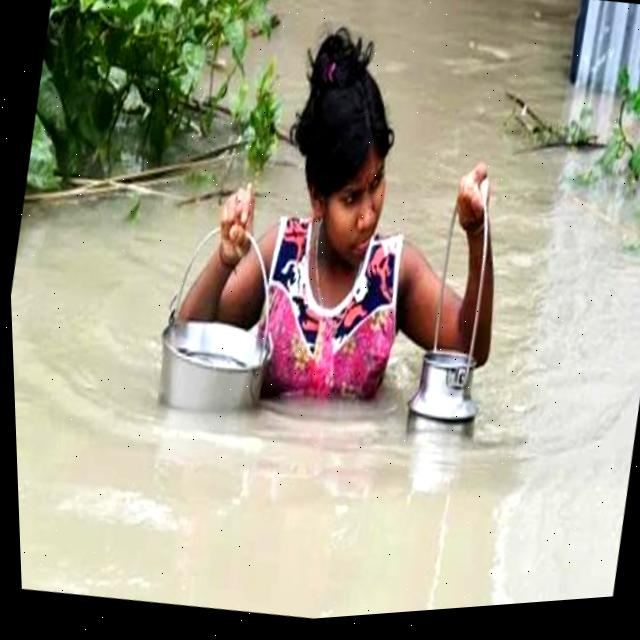civilian: (124, 0, 571, 528)
